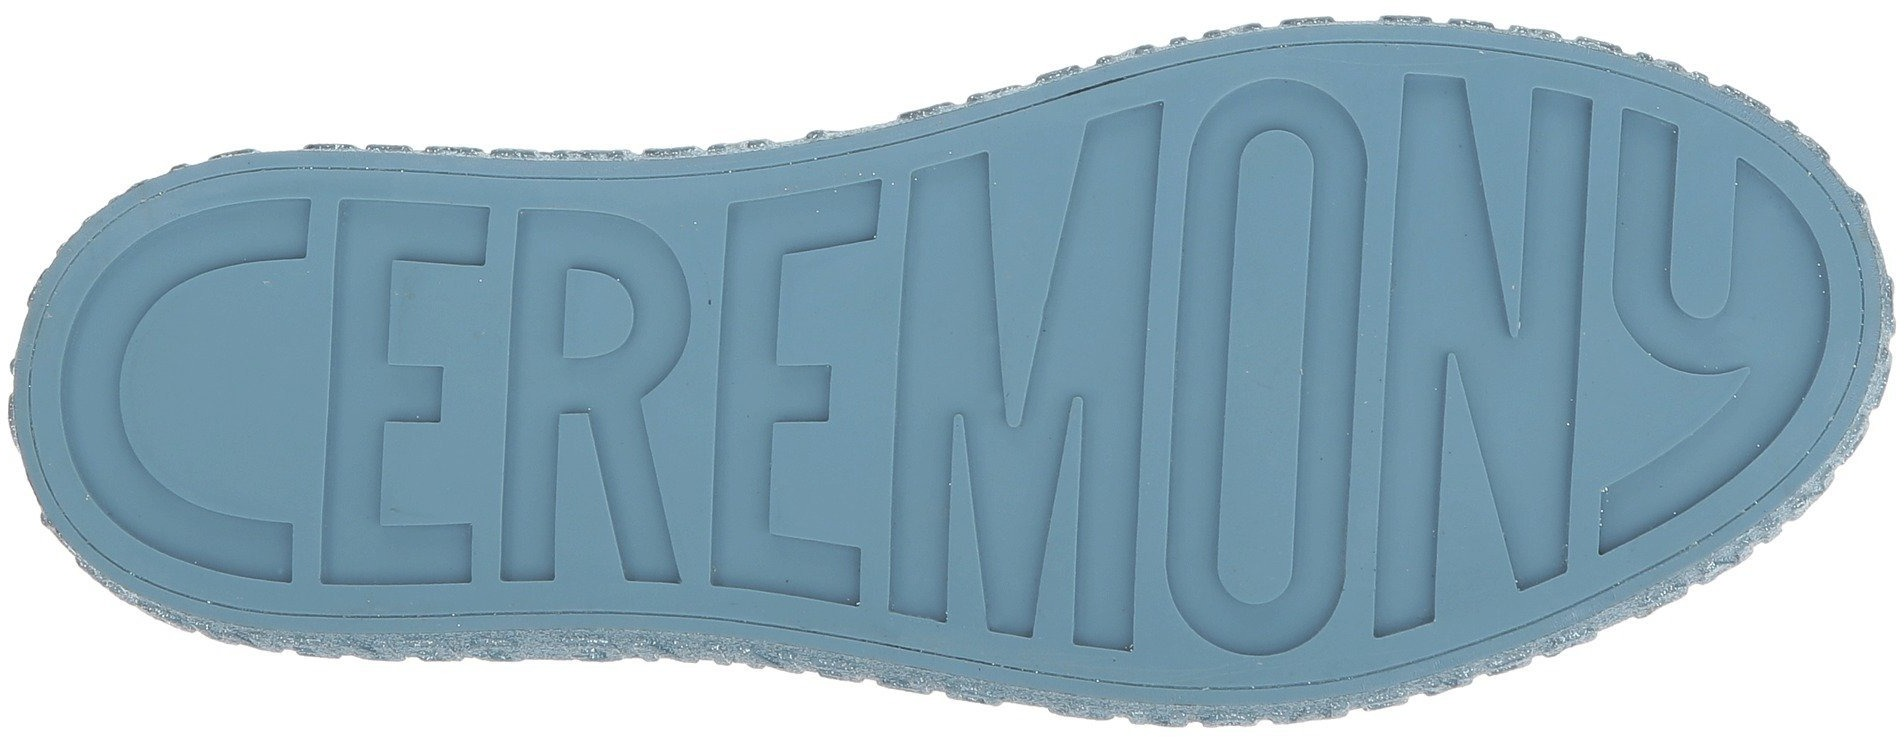text: (693, 96, 1413, 698), (1353, 32, 1872, 712), (2, 135, 681, 652), (907, 141, 1368, 636), (1381, 120, 1747, 526), (503, 220, 860, 627), (118, 238, 469, 583)
